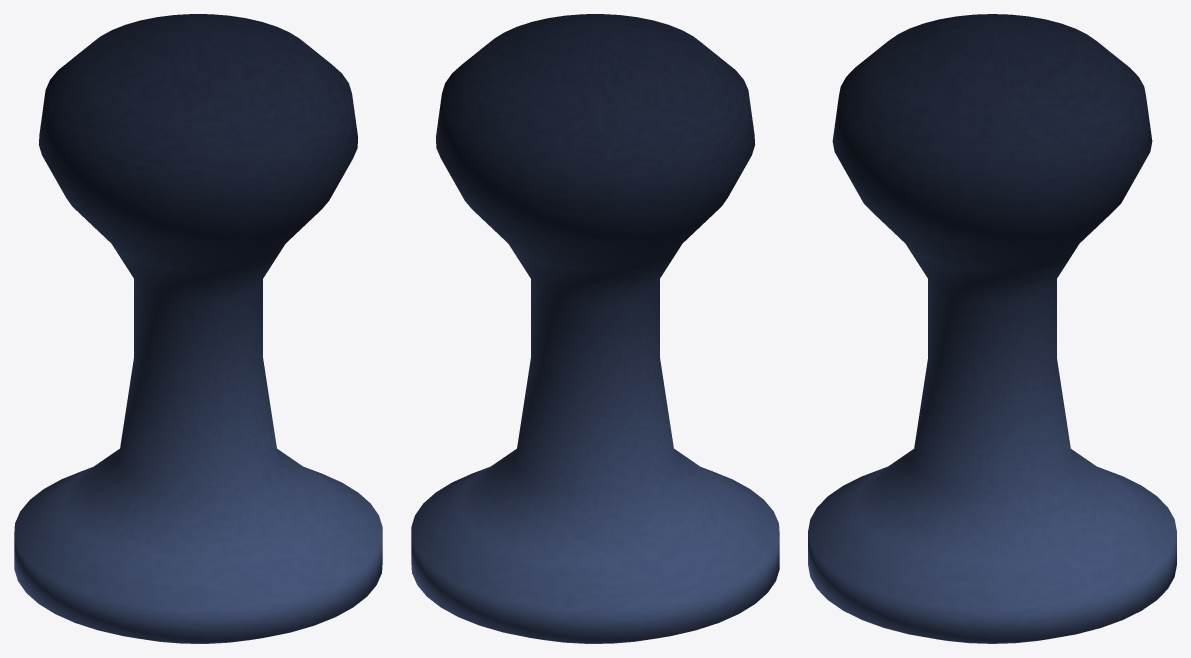
The model's file is piece.glb.
3 renders of one model, left to right at view 1: azimuth 30°, elevation 25°; view 2: azimuth 150°, elevation 25°; view 3: azimuth 270°, elevation 25°, orthographic.
Visible parts, largest first — view 1: piece; view 2: piece; view 3: piece.
Part boxes in pixels (x1,y1,x2,y2): piece: (14,14,382,643); piece: (411,14,779,643); piece: (808,14,1176,643).
Bounding box in the file's own units: 0.6 × 1 × 0.6.
Materials: 1 (1 with a texture image).
